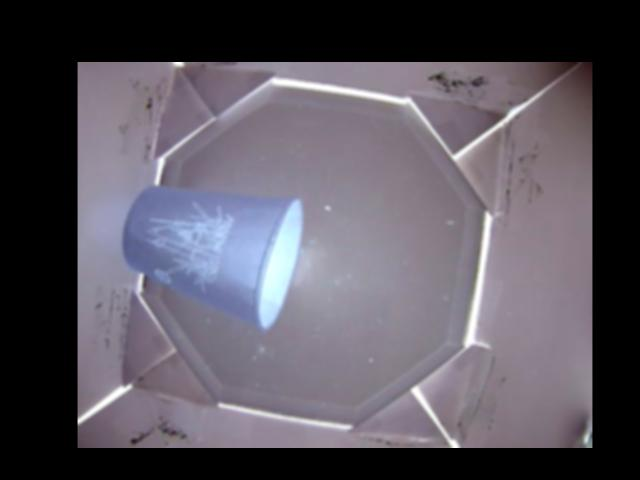Cup: (122, 185, 301, 328)
